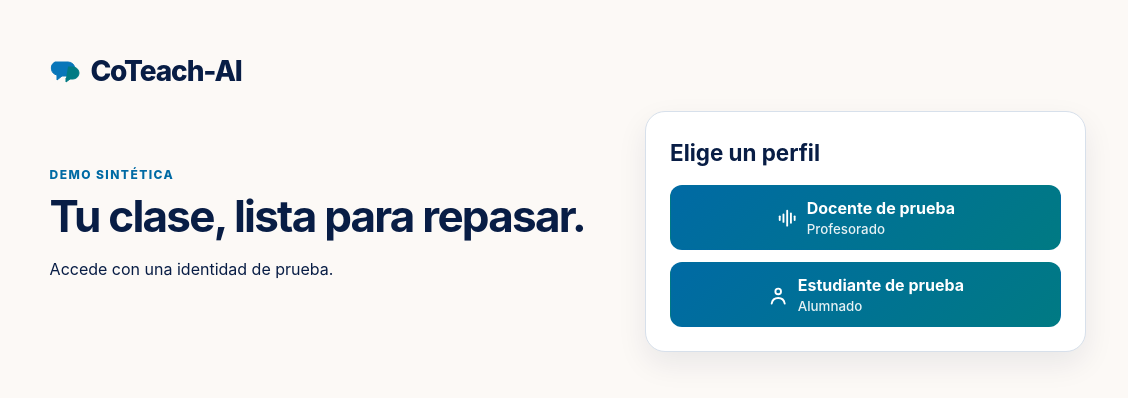
it: keeps the upload form out of the student landing page
Click the button "Estudiante de prueba Alumnado" at (866, 295), box x1=670 y1=262 x2=1061 y2=327
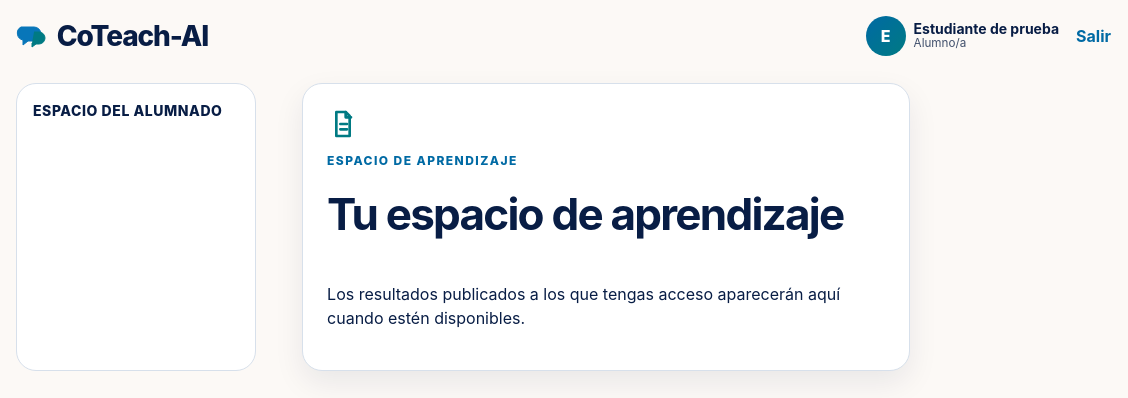
expect the heading "Tu espacio de aprendizaje" is shown: met, box x1=327 y1=190 x2=885 y2=238
